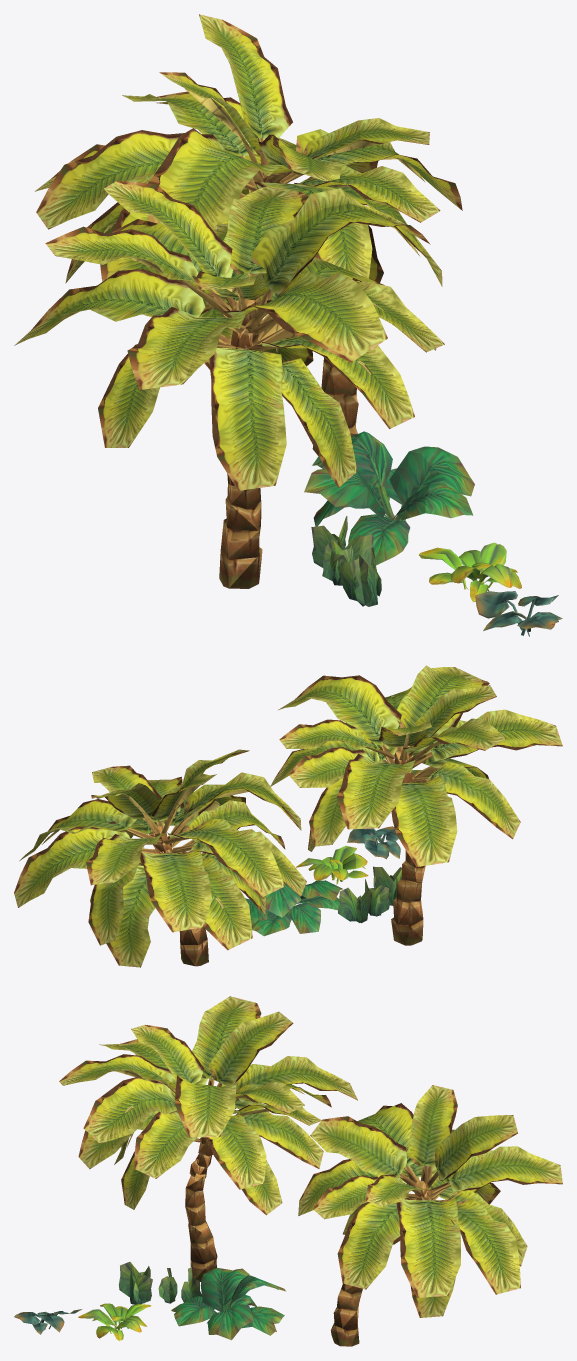
Rendered from date palm trees ok.fbx.
3 views of the same model, one above another, from view 1: azimuth 30°, elevation 25°; view 2: azimuth 150°, elevation 25°; view 3: azimuth 270°, elevation 25° (orthographic). The views are drawn at different scales.
Visible parts, largest first — view 1: SM_DatePalm_1, SM_DatePalm_2, SM_Vegetation_2, SM_Vegetation_1, SM_Vegetation_3, SM_Grass_1, SM_Grass_2, SM_Grass_3; view 2: SM_DatePalm_2, SM_DatePalm_1, SM_Vegetation_2, SM_Vegetation_1, SM_Vegetation_3, SM_Grass_3, SM_Grass_1, SM_Grass_2; view 3: SM_DatePalm_2, SM_DatePalm_1, SM_Vegetation_2, SM_Vegetation_1, SM_Grass_1, SM_Vegetation_3, SM_Grass_2.
Boxes of the visible parts, x1,y1,x2,y2 form: SM_DatePalm_1: (14, 181, 444, 588); SM_DatePalm_2: (35, 14, 462, 455); SM_Vegetation_2: (304, 431, 474, 565); SM_Vegetation_1: (419, 542, 521, 602); SM_Vegetation_3: (475, 591, 562, 636); SM_Grass_1: (340, 534, 381, 606); SM_Grass_2: (322, 535, 362, 585); SM_Grass_3: (311, 516, 347, 567); SM_DatePalm_2: (14, 749, 306, 967); SM_DatePalm_1: (270, 665, 562, 945); SM_Vegetation_2: (245, 880, 342, 936); SM_Vegetation_1: (296, 845, 368, 884); SM_Vegetation_3: (347, 826, 400, 859); SM_Grass_3: (338, 887, 371, 923); SM_Grass_1: (373, 866, 401, 905); SM_Grass_2: (364, 879, 389, 916); SM_DatePalm_2: (298, 1085, 562, 1346); SM_DatePalm_1: (59, 996, 357, 1281); SM_Vegetation_2: (171, 1267, 286, 1340); SM_Vegetation_1: (78, 1303, 151, 1340); SM_Grass_1: (118, 1262, 152, 1304); SM_Vegetation_3: (14, 1309, 82, 1334); SM_Grass_2: (158, 1268, 177, 1303).
Size of the model in its own units: 779 by 503 by 1034.
3 materials, 3 textured.
